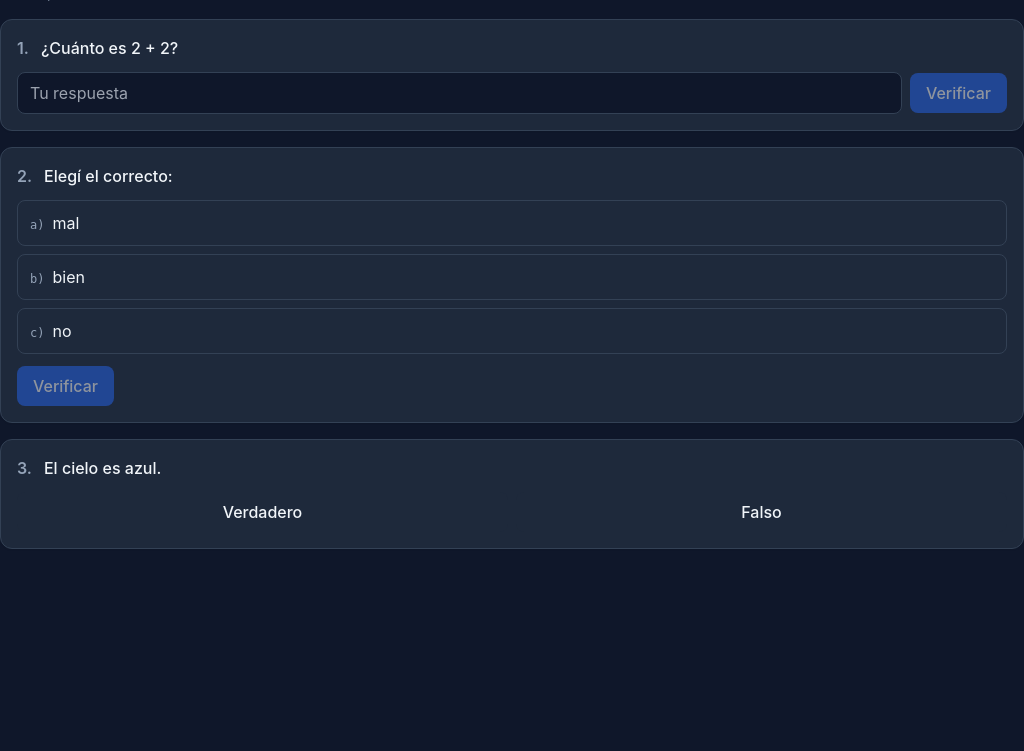
it: QuizRunner › persiste el score cuando se contestan todas
Type "4" into the field named "Respuesta a la pregunta 1".
click(460, 93); type("4")  # box x1=17 y1=72 x2=902 y2=114
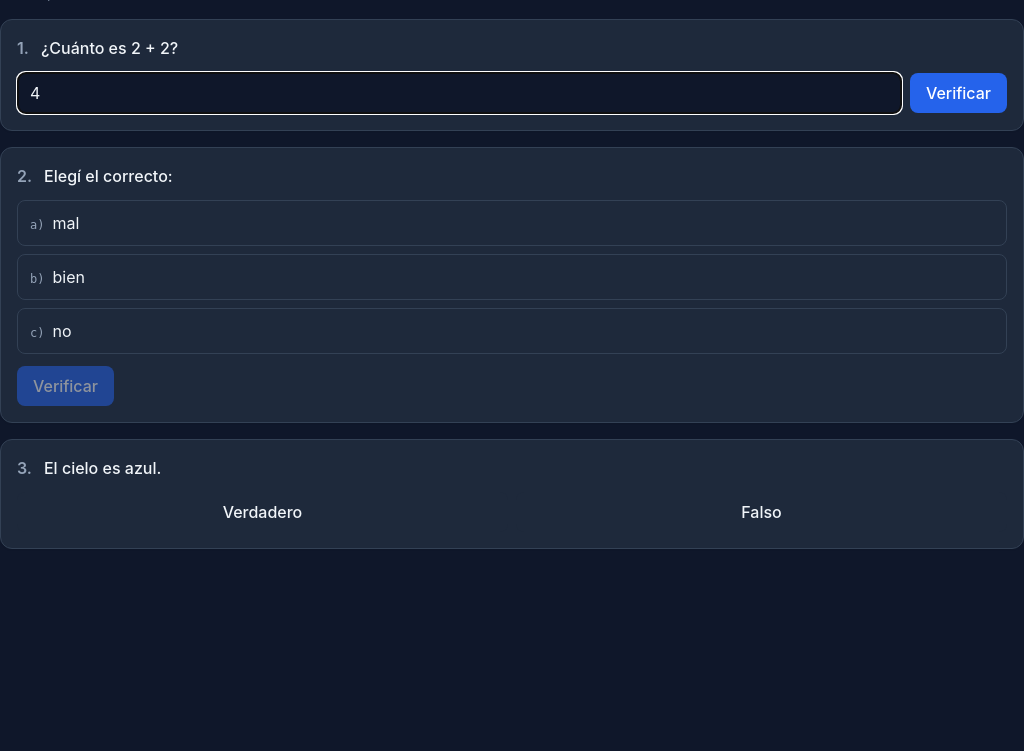
Click the 1st button "Verificar".
click(958, 93)  # box x1=910 y1=73 x2=1007 y2=113
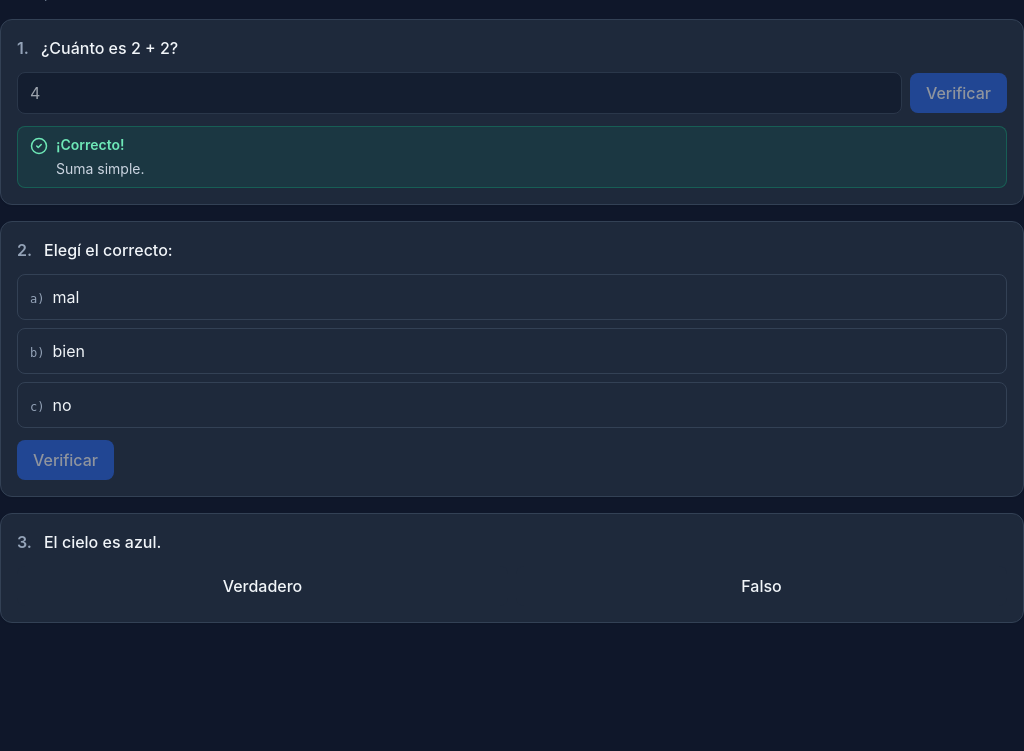
Click the button named "b) bien".
click(69, 351)  # box x1=17 y1=328 x2=1007 y2=374
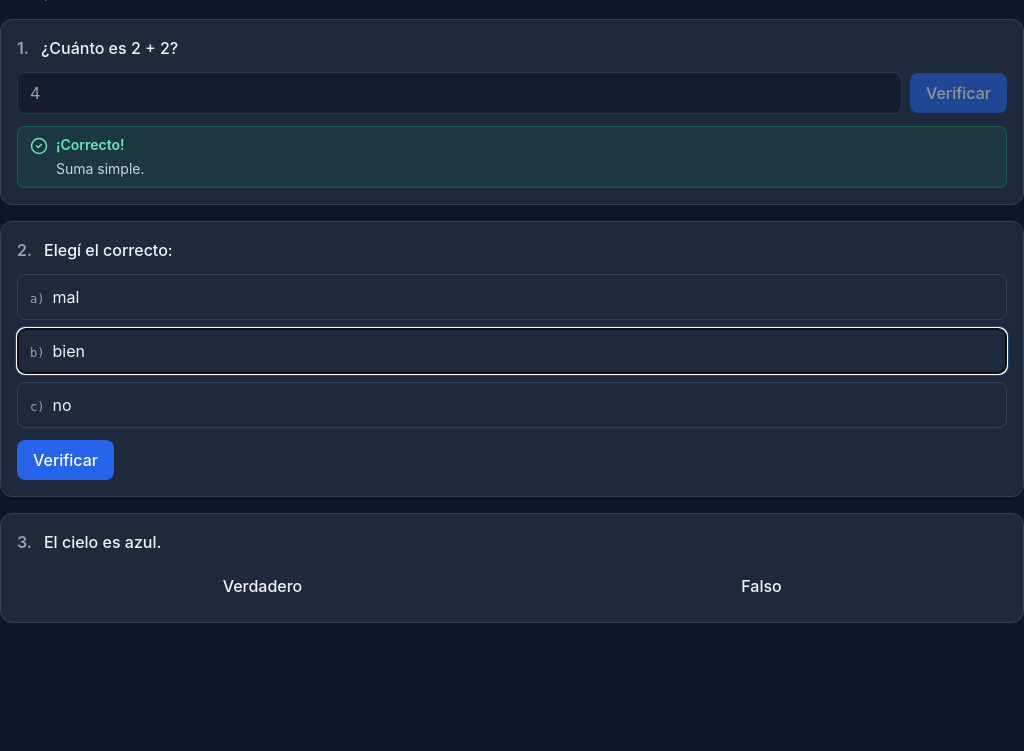
Click the button "Verificar" below "Elegí el correcto:".
click(66, 460)  # box x1=17 y1=440 x2=114 y2=480
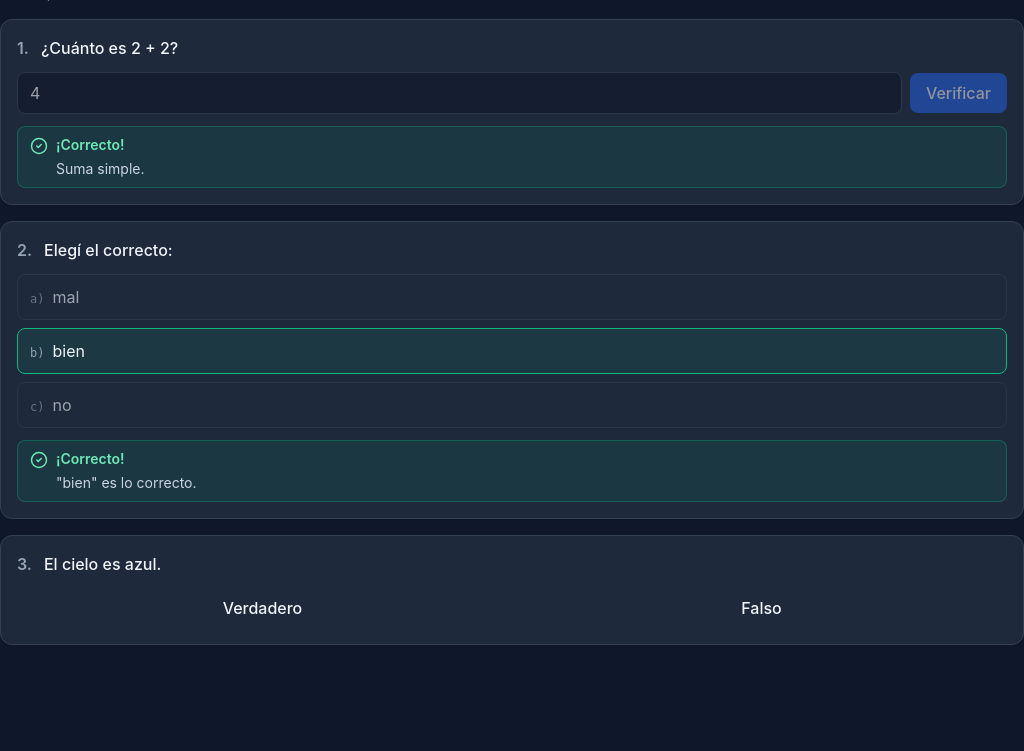
Click the button "Verdadero".
click(262, 608)  # box x1=17 y1=588 x2=508 y2=628
(page scrolled)
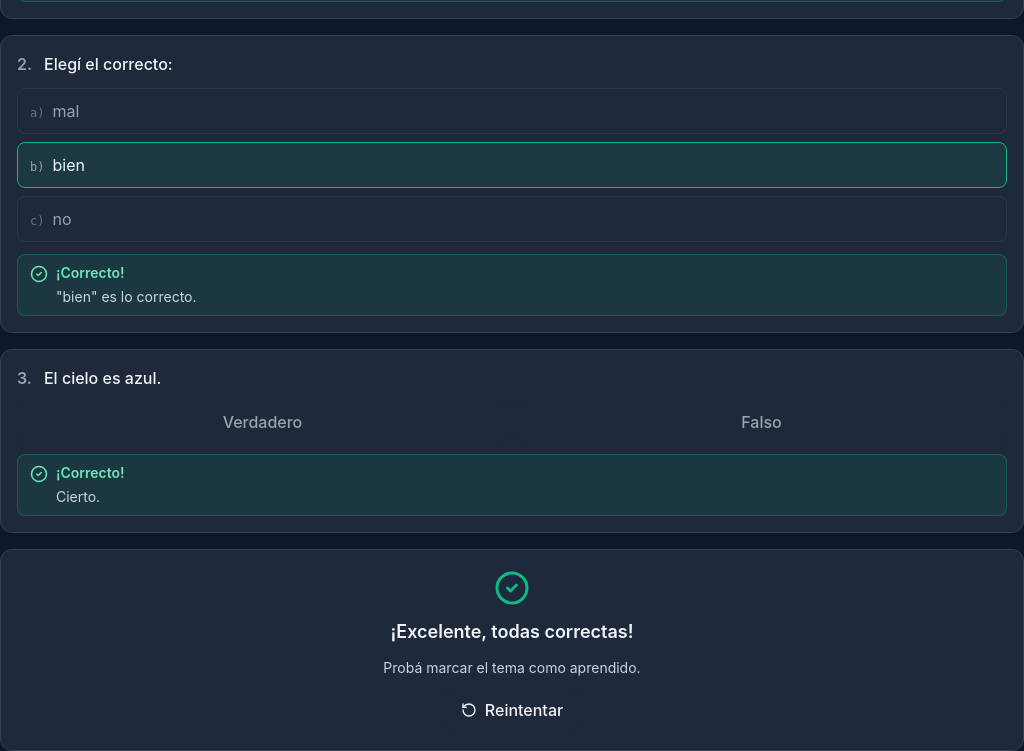
Result: the heading "¡Excelente, todas correctas!" is shown at x1=390 y1=621 x2=634 y2=642
